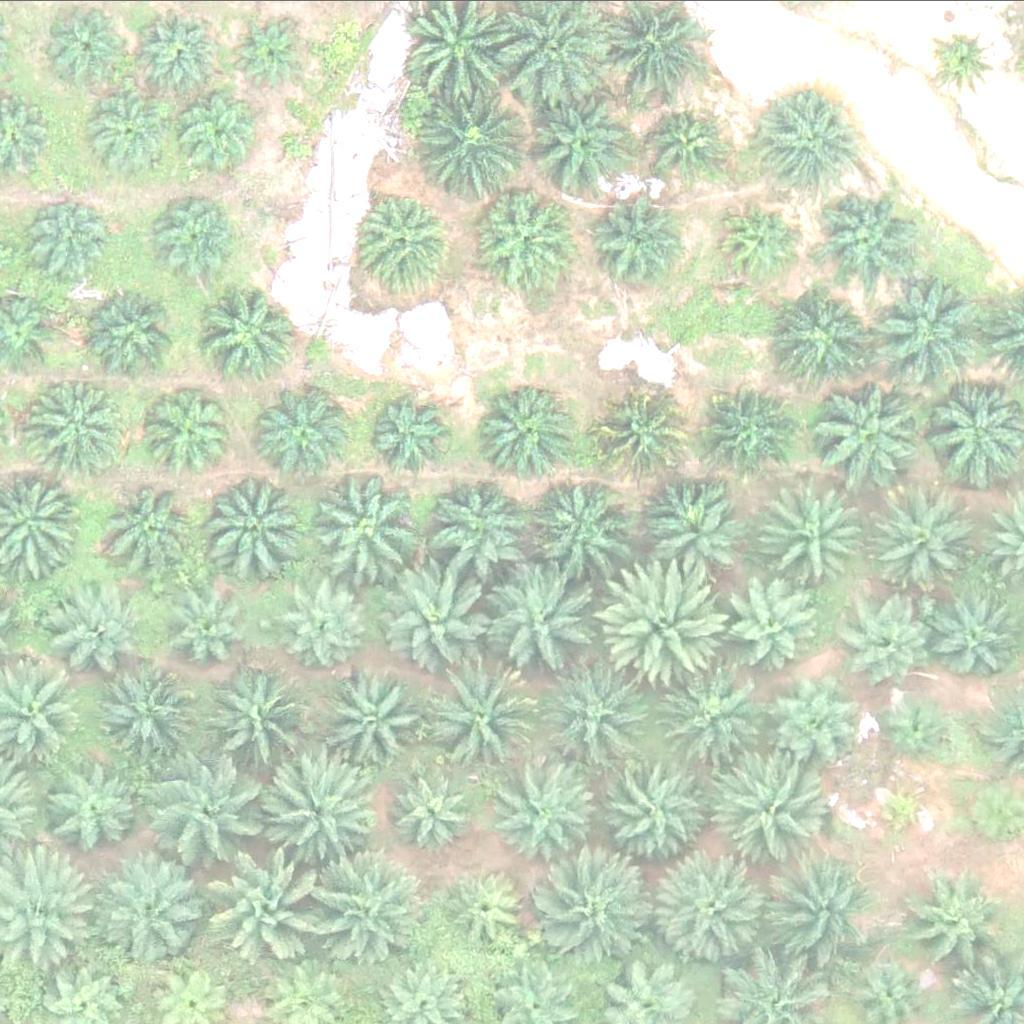Kelapa_Sawit: (601, 555, 727, 680), (479, 565, 593, 678), (208, 664, 322, 777), (867, 276, 980, 389), (811, 375, 924, 488), (427, 663, 540, 776), (539, 659, 652, 772), (594, 752, 707, 865), (655, 855, 768, 968), (421, 86, 534, 199), (310, 471, 423, 584), (154, 747, 267, 860), (312, 848, 425, 961), (385, 558, 498, 671), (757, 856, 871, 968), (195, 466, 309, 578), (216, 843, 330, 955), (495, 760, 608, 872), (712, 755, 825, 867), (546, 858, 659, 970), (259, 753, 372, 865), (90, 856, 203, 968), (530, 98, 631, 198), (472, 378, 573, 478), (531, 471, 632, 571), (768, 485, 869, 585), (880, 490, 981, 590), (660, 668, 761, 768), (761, 666, 862, 766), (909, 874, 1010, 974), (86, 284, 187, 384), (202, 283, 303, 383), (30, 374, 131, 474), (324, 665, 425, 765), (36, 760, 137, 860), (765, 90, 865, 190), (473, 187, 573, 287), (818, 184, 918, 284), (438, 476, 538, 576), (638, 486, 738, 586), (358, 189, 458, 289), (258, 381, 358, 481), (102, 472, 202, 572), (46, 571, 146, 671), (102, 664, 202, 764), (590, 202, 678, 290), (785, 291, 873, 379), (596, 391, 684, 479), (848, 598, 936, 686), (445, 865, 533, 953), (19, 200, 107, 288), (152, 384, 240, 472), (365, 392, 453, 480), (390, 765, 478, 853), (704, 389, 792, 476), (728, 581, 816, 668), (154, 194, 242, 281), (171, 84, 259, 171), (86, 88, 174, 175), (47, 3, 135, 90), (131, 2, 219, 89), (179, 580, 267, 667), (284, 575, 372, 662), (881, 692, 957, 767), (228, 13, 304, 88), (721, 203, 797, 278), (647, 108, 722, 183), (934, 27, 997, 90), (869, 779, 932, 841)
